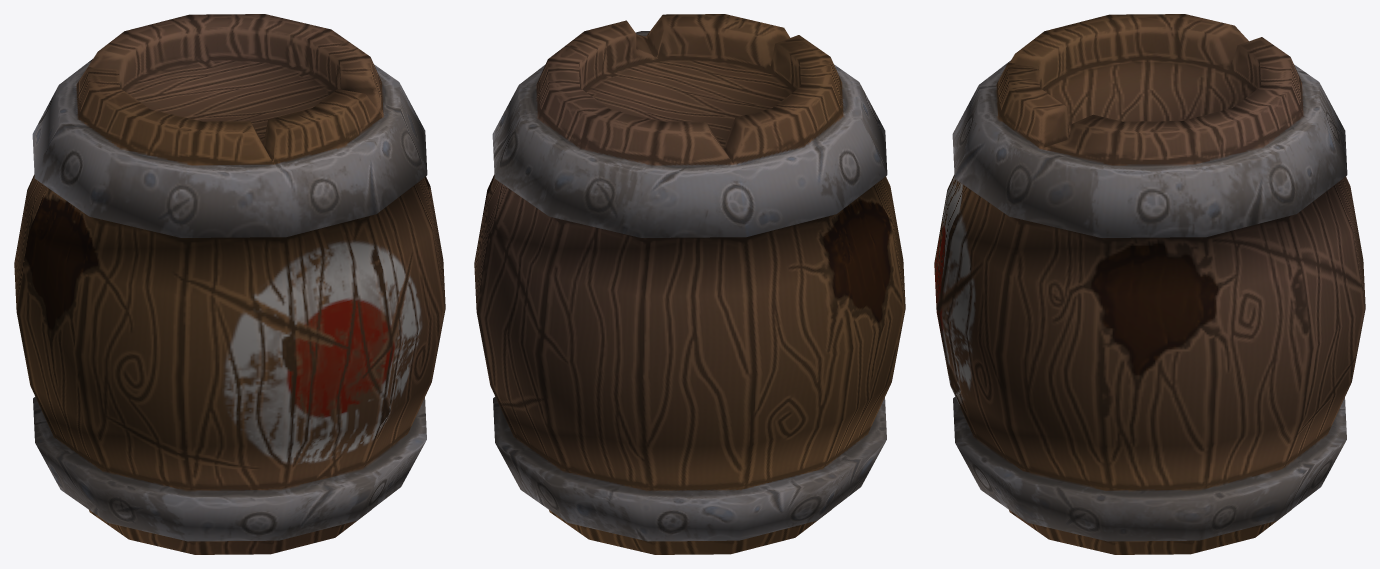
Rendered from Dummy_barrel.fbx.
3 renders of one model, left to right at view 1: azimuth 30°, elevation 25°; view 2: azimuth 150°, elevation 25°; view 3: azimuth 270°, elevation 25°, orthographic.
Parts seen in each view (by area): view 1: Dummy_barrel; view 2: Dummy_barrel; view 3: Dummy_barrel.
Boxes of the visible parts, x1,y1,x2,y2 form: Dummy_barrel: [14, 14, 445, 554]; Dummy_barrel: [474, 14, 905, 554]; Dummy_barrel: [934, 14, 1365, 554].
Bounding box in the file's own units: 71.89 × 77.41 × 71.89.
Materials: 1 (1 with a texture image).
